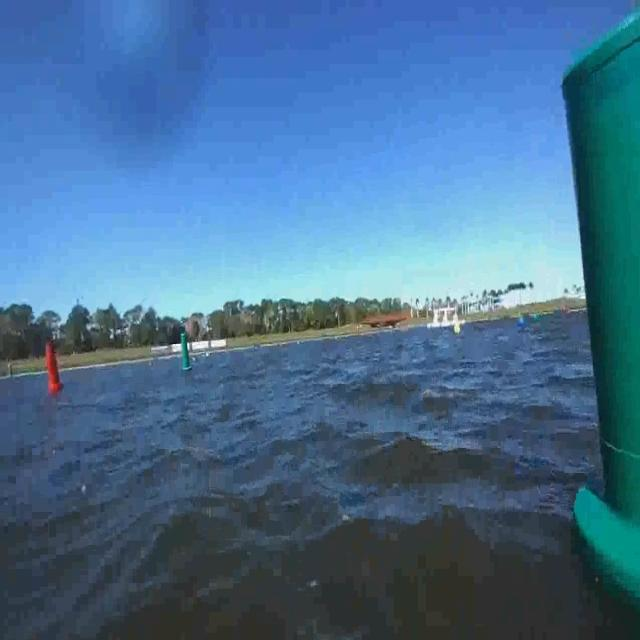green-column-buoy: (536, 4, 640, 640), (179, 316, 195, 376)
red-column-buoy: (41, 332, 68, 401)
